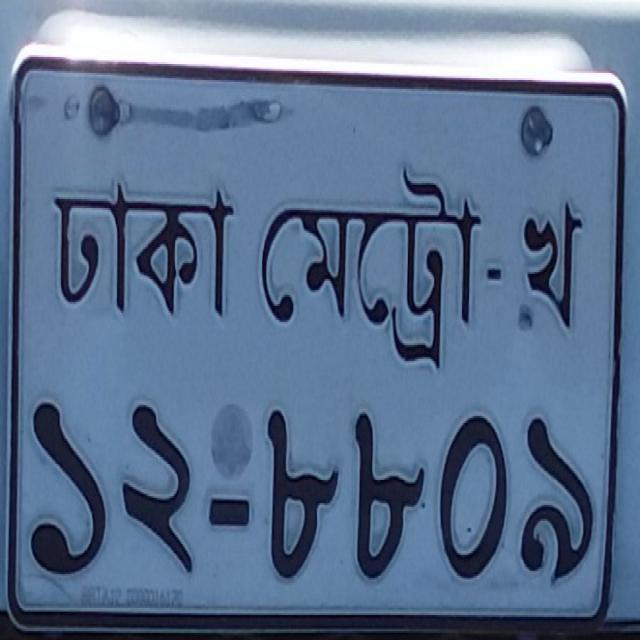numberplate: (2, 21, 629, 633)
